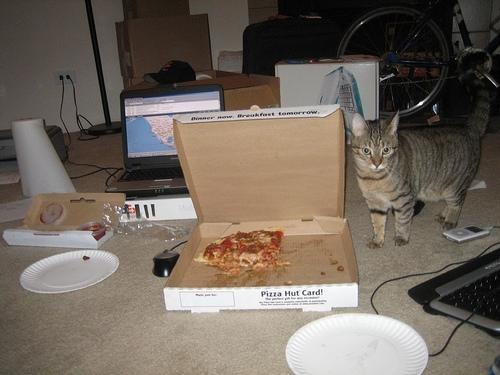bicycle: (338, 0, 500, 115)
